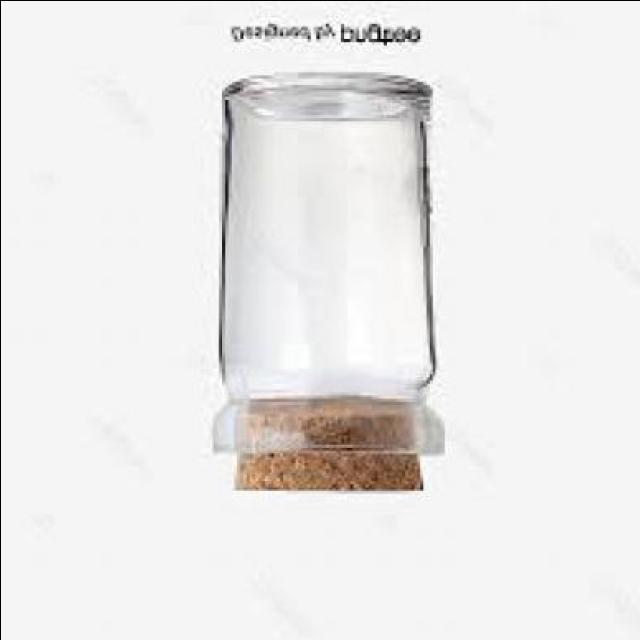kaca: (207, 68, 440, 456)
